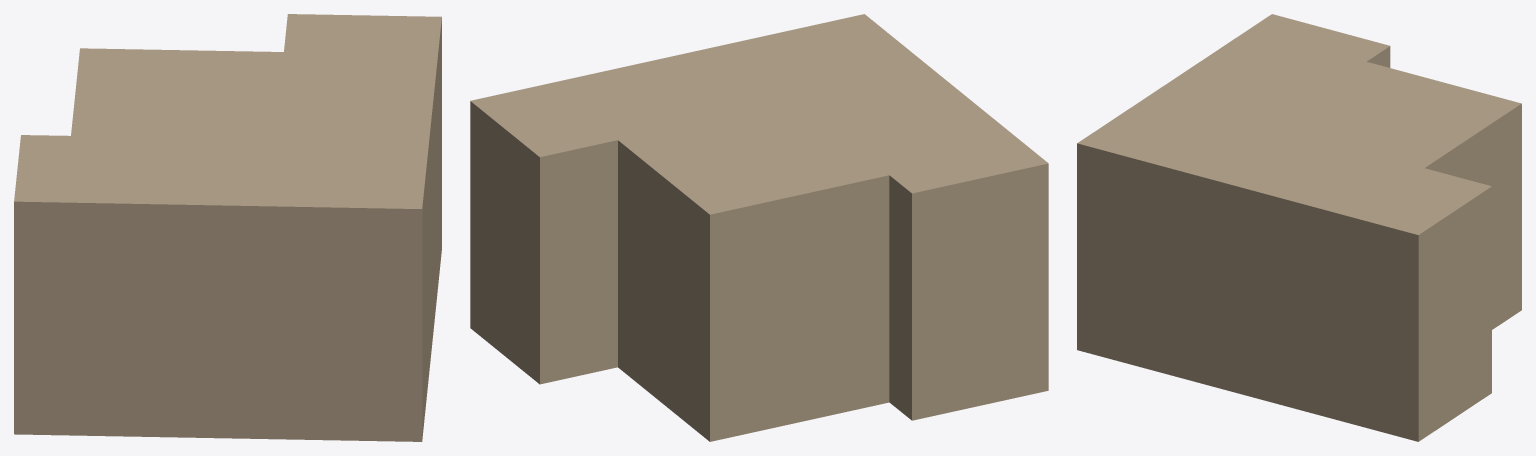
File: bld_108162240.dae
The picture shows the model from 3 angles, left to right: view 1: azimuth 30°, elevation 25°; view 2: azimuth 150°, elevation 25°; view 3: azimuth 270°, elevation 25°; orthographic projection. The views are drawn at different scales.
Parts seen in each view (by area): view 1: bld_108162240; view 2: bld_108162240; view 3: bld_108162240.
Boxes of the visible parts, <box> form: bld_108162240: <box>14,14,441,441</box>; bld_108162240: <box>470,14,1048,441</box>; bld_108162240: <box>1077,14,1521,441</box>.
Size of the model in its own units: 18.35 by 15.59 by 8.
